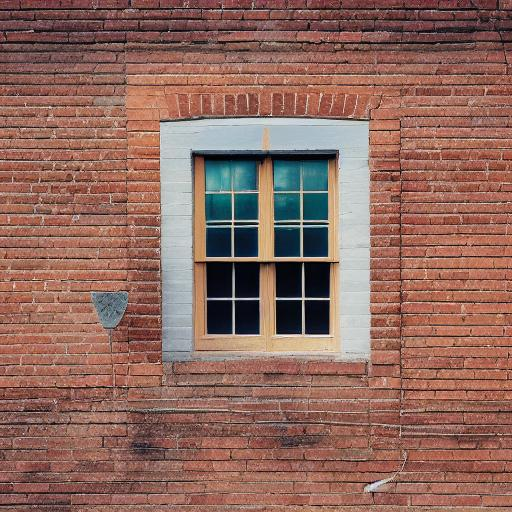Window: (153, 94, 383, 381)
